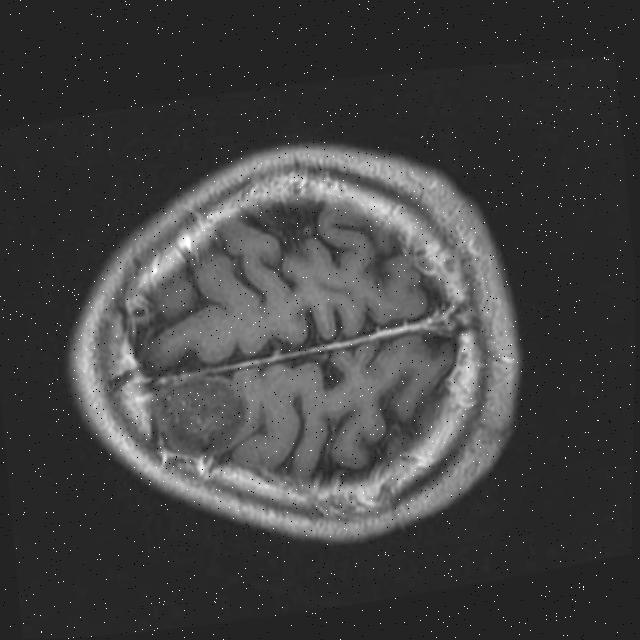Glioma: (149, 368, 250, 460)
